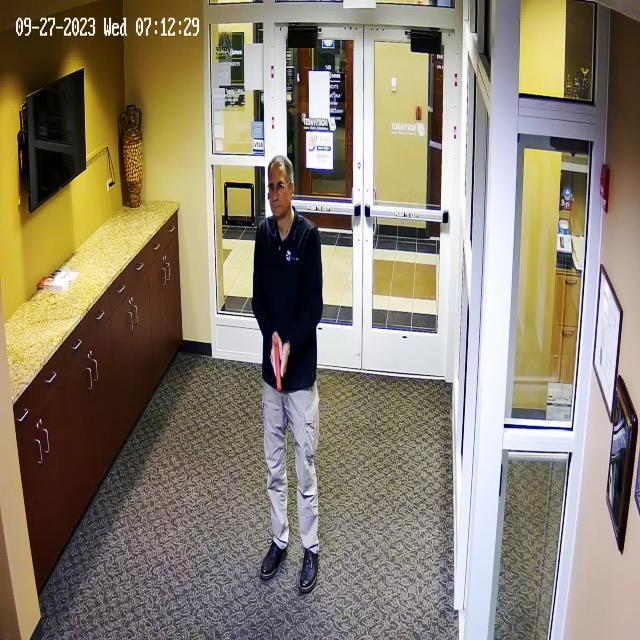Gun: (264, 327, 294, 398)
